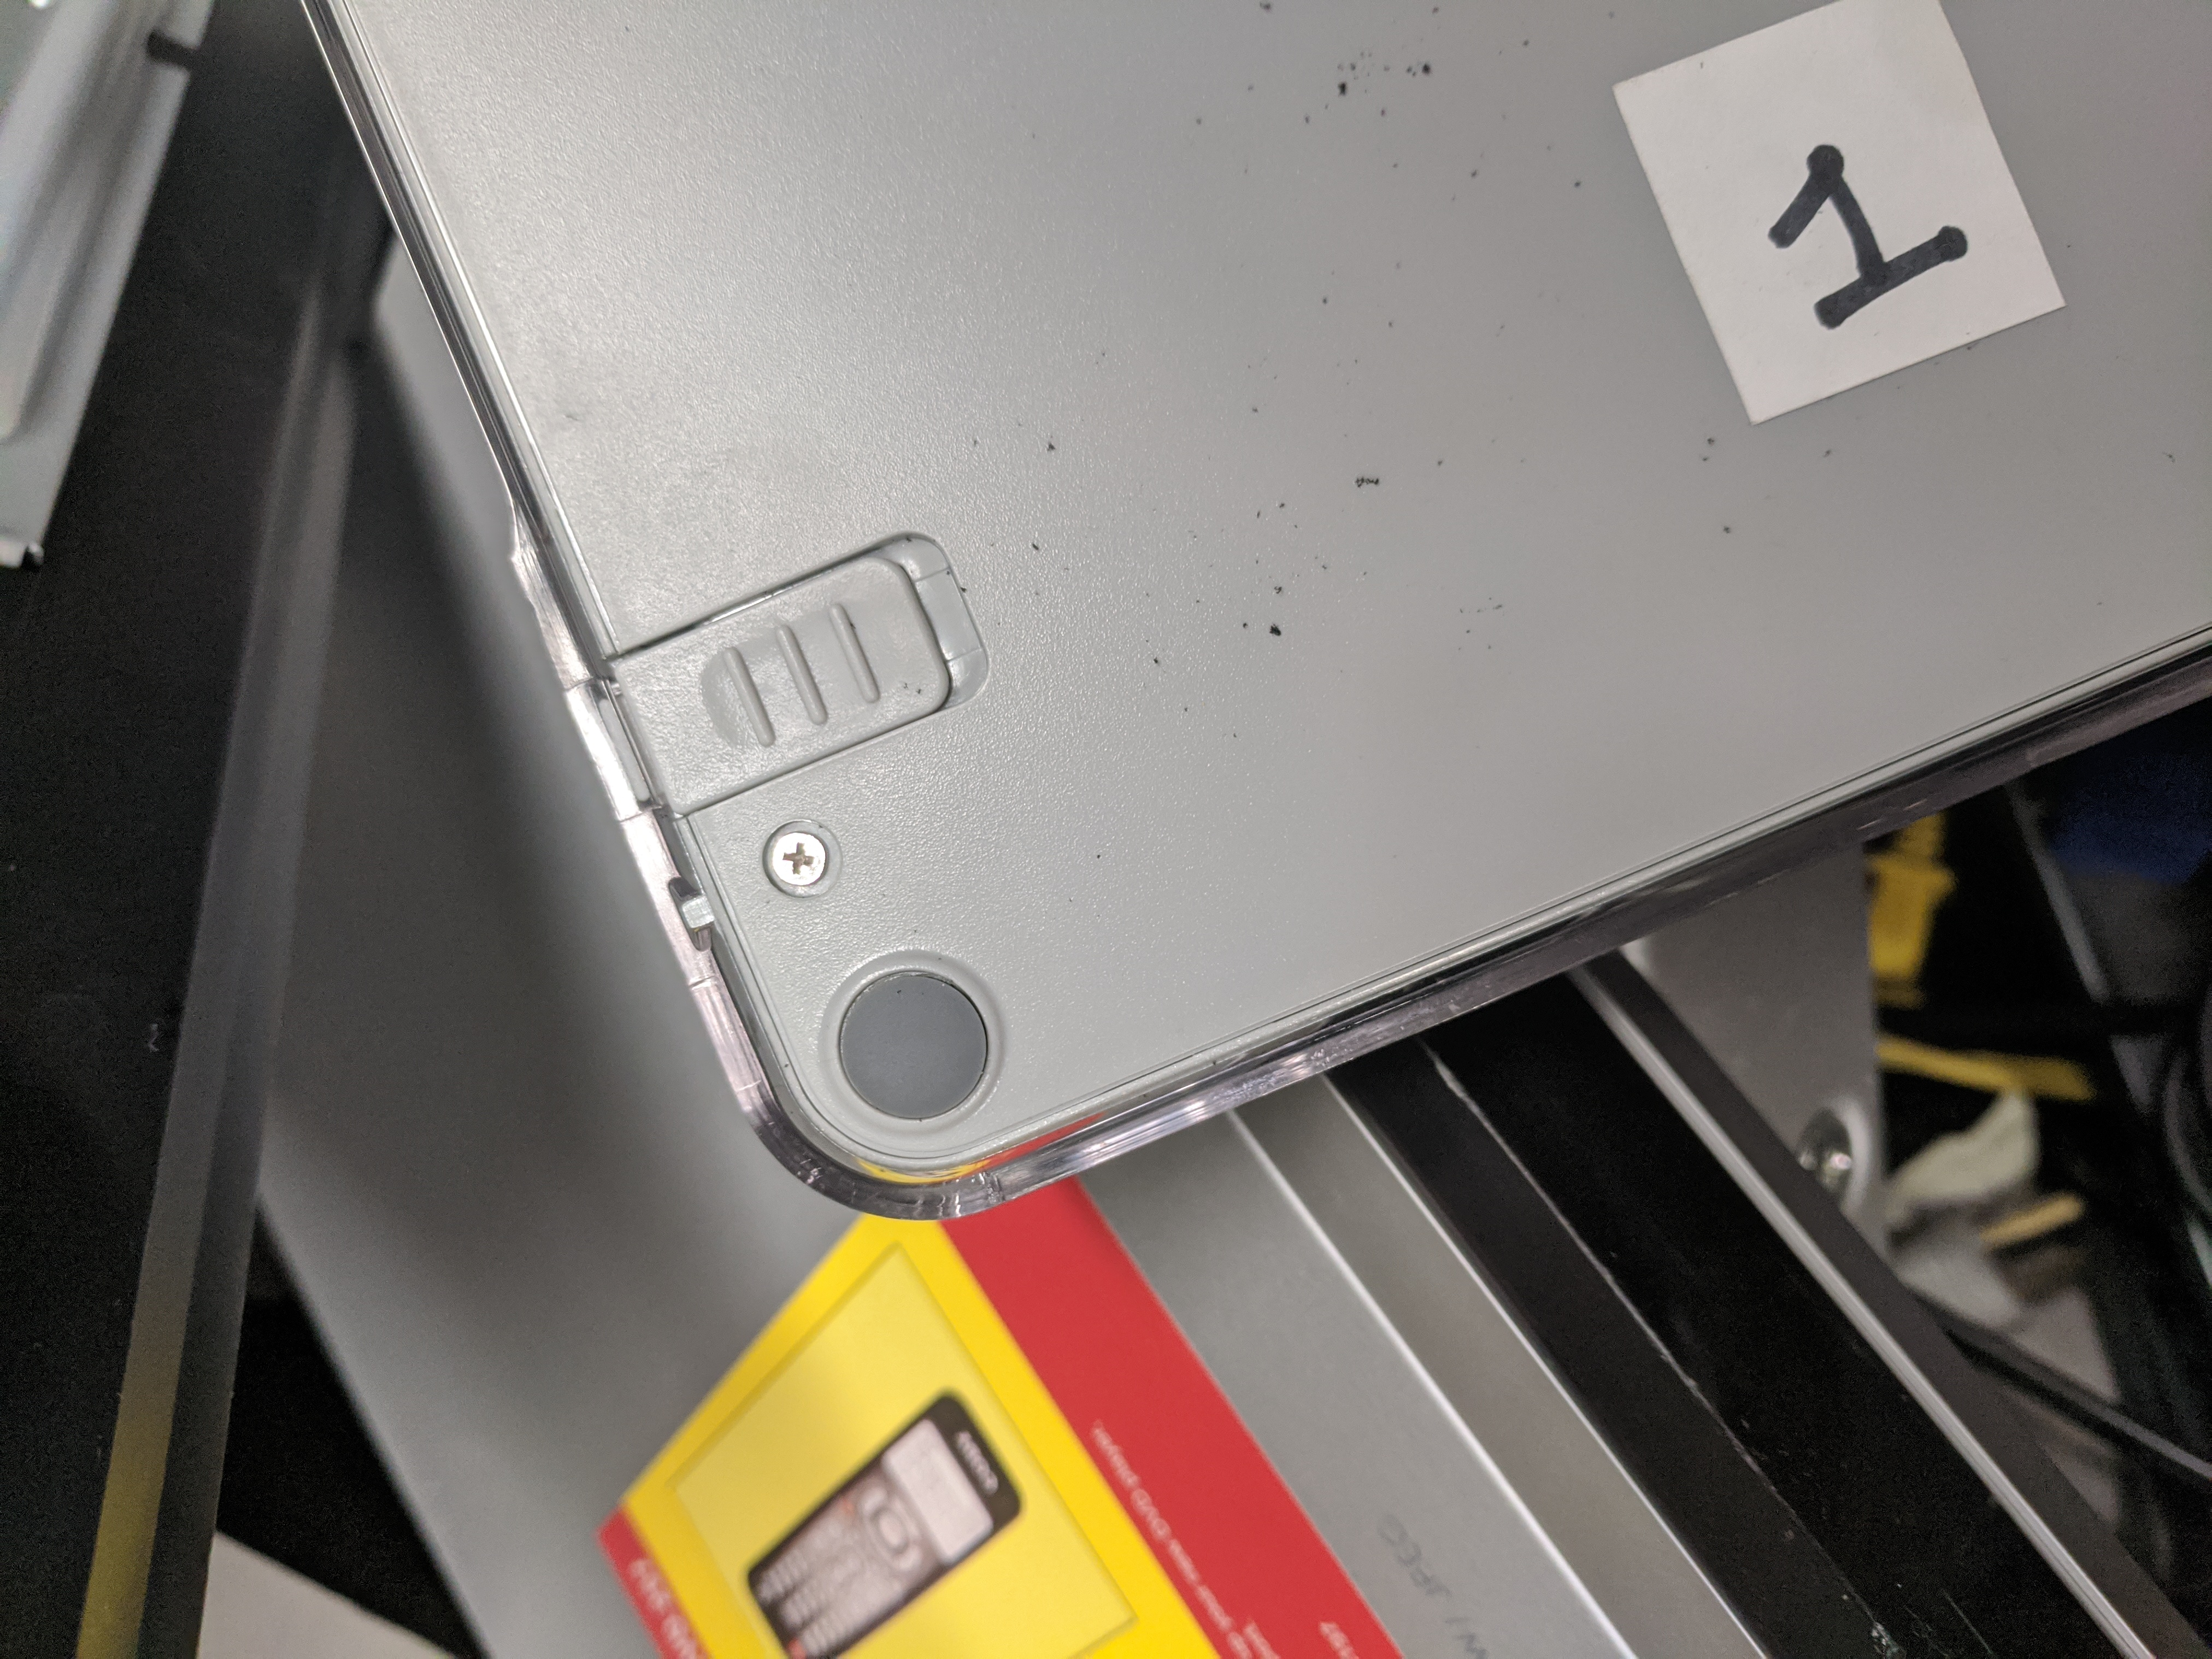cross_recessed_screw: (758, 816, 841, 894)
